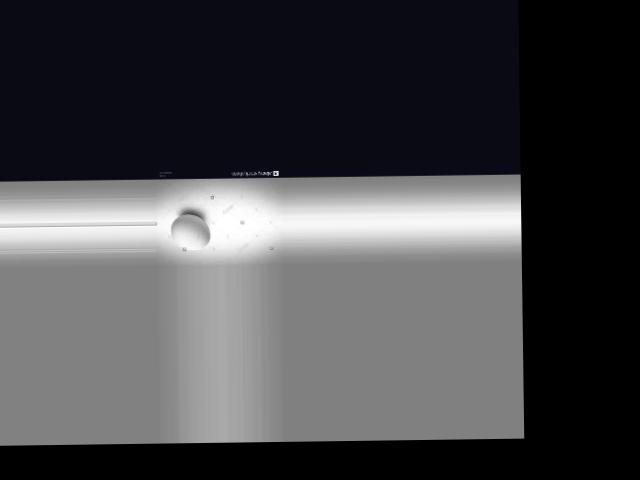egg: (169, 213, 209, 249)
